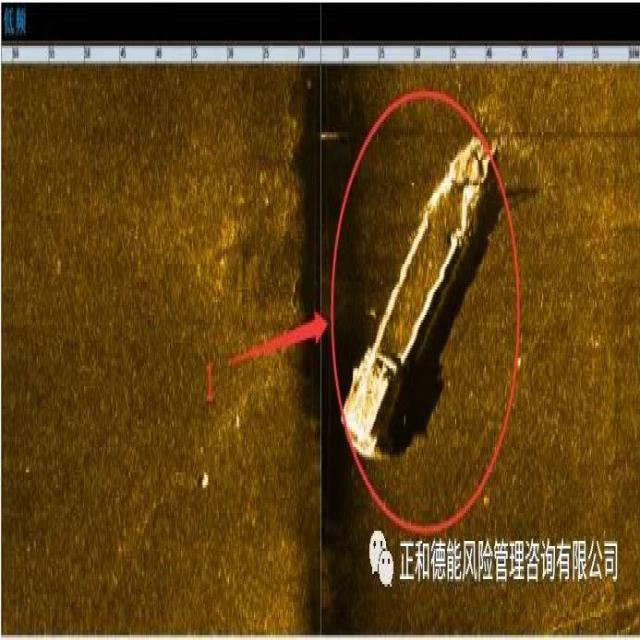ship: (335, 122, 492, 475)
